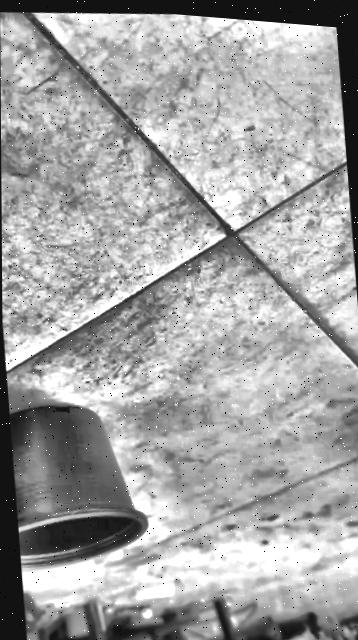pot: (8, 396, 150, 581)
